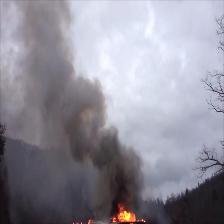fire: (115, 209, 139, 221)
smoke: (25, 2, 65, 115), (66, 83, 105, 155), (105, 143, 139, 207)
